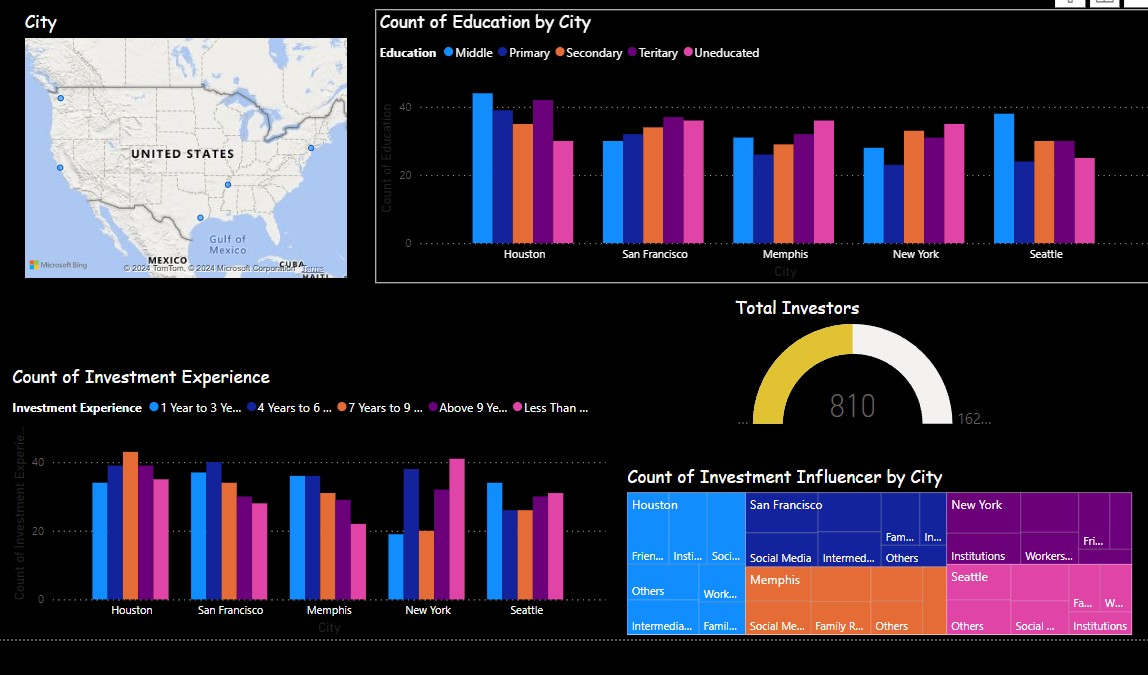

The dashboard page shown, as its layout file describes it:
{"tool":"powerbi","page":{"name":"City Distribution","canvas":[1280,720],"ordinal":1},"visuals":[{"type":"map","fields":{"Category":["Sheet1.City"]},"box":[34.3,28.8,363.6,300.5],"z":0},{"type":"clusteredColumnChart","title":"Count of Education by City ","fields":{"Category":["Sheet1.City"],"Series":["Sheet1.Education"],"Y":["CountNonNull(Sheet1.Education)"]},"box":[424,28.8,856.3,300.5],"z":1000},{"type":"gauge","title":"Total Investors","fields":{"Y":["CountNonNull(Sheet1.Gender)"]},"box":[813.7,343.1,295,150.9],"z":2000},{"type":"clusteredColumnChart","title":"Count of Investment Experience ","fields":{"Category":["Sheet1.City"],"Series":["Sheet1.Investment Experience"],"Y":["CountNonNull(Sheet1.Investment Experience)"]},"box":[20.6,418.5,661.4,301.9],"z":3000},{"type":"treemap","title":"Count of Investment Influencer by City ","fields":{"Group":["Sheet1.City"],"Details":["Sheet1.Investment Influencer"],"Values":["CountNonNull(Sheet1.Investment Influencer)"]},"box":[695.7,528.3,564,192.1],"z":4000}]}

Visuals, with their boxes on the page's 1280x720 design canvas (x1, y1, x2, y2). These are canvas units, not pixel positions in the 1148x675 screenshot, which may show the page scaled, cropped or inside an application window:
map - Sheet1.City: box=[34, 29, 398, 329]
"Count of Education by City " clusteredColumnChart: box=[424, 29, 1280, 329]
"Total Investors" gauge: box=[814, 343, 1109, 494]
"Count of Investment Experience " clusteredColumnChart: box=[21, 418, 682, 720]
"Count of Investment Influencer by City " treemap: box=[696, 528, 1260, 720]
